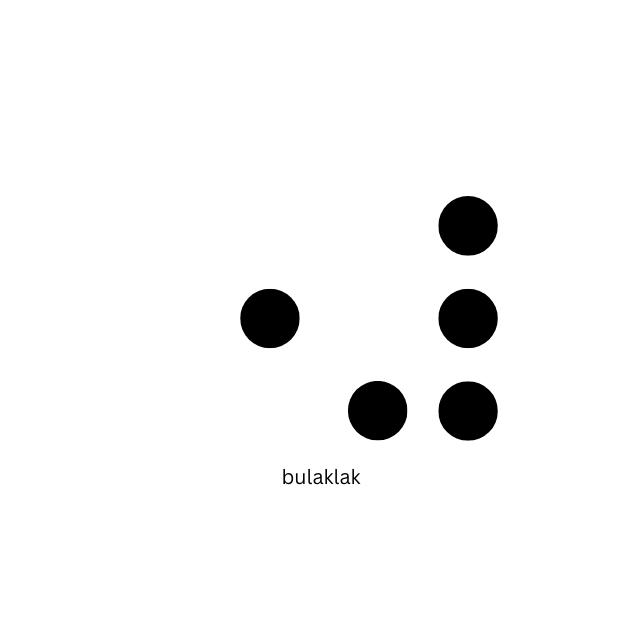dot_5: (144, 195, 298, 437)
two_cell_non_alphabet_bulaklak: (348, 194, 497, 440)
